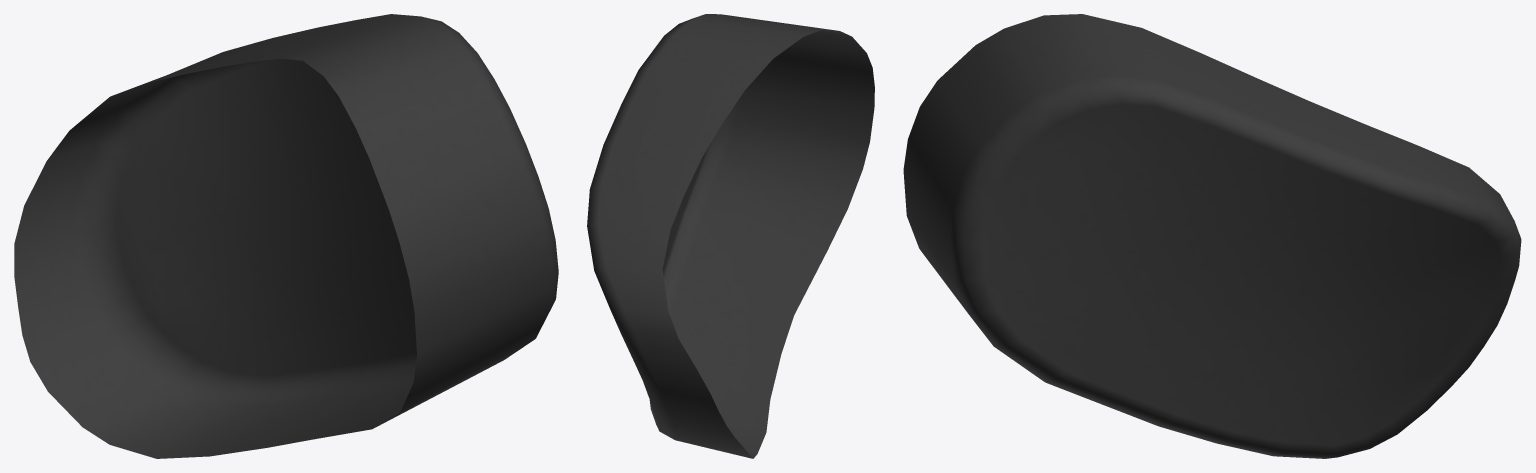
Rendered from oculus_quest_controller_left_grip.obj.
3 views of the same model, side by side, from view 1: azimuth 30°, elevation 25°; view 2: azimuth 150°, elevation 25°; view 3: azimuth 270°, elevation 25° (orthographic). The views are drawn at different scales.
Size of the model in its own units: 0.0126 by 0.0192 by 0.0249.
